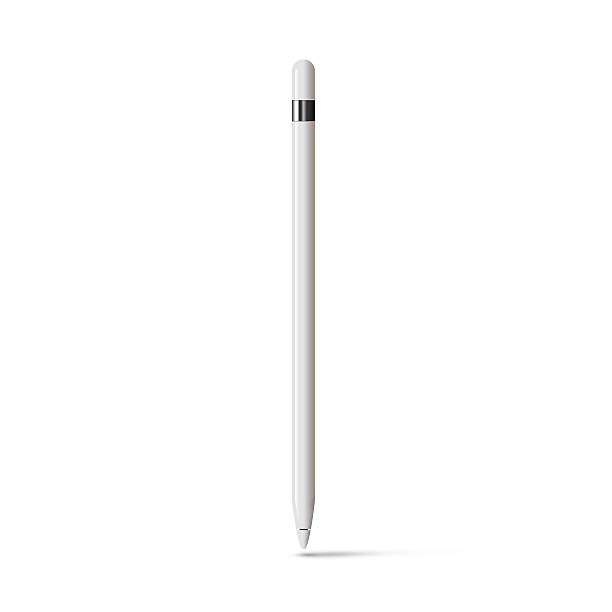pen: (269, 37, 352, 570)
